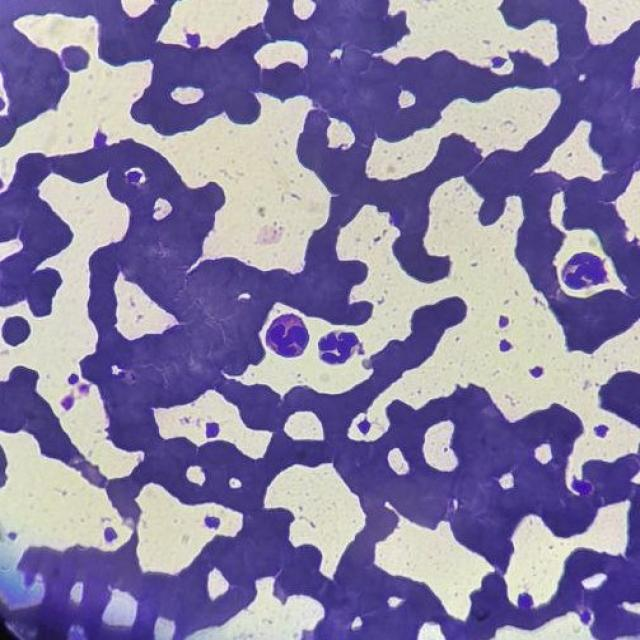Neutrofilo: (264, 315, 310, 361), (315, 327, 363, 366), (563, 254, 612, 292)
